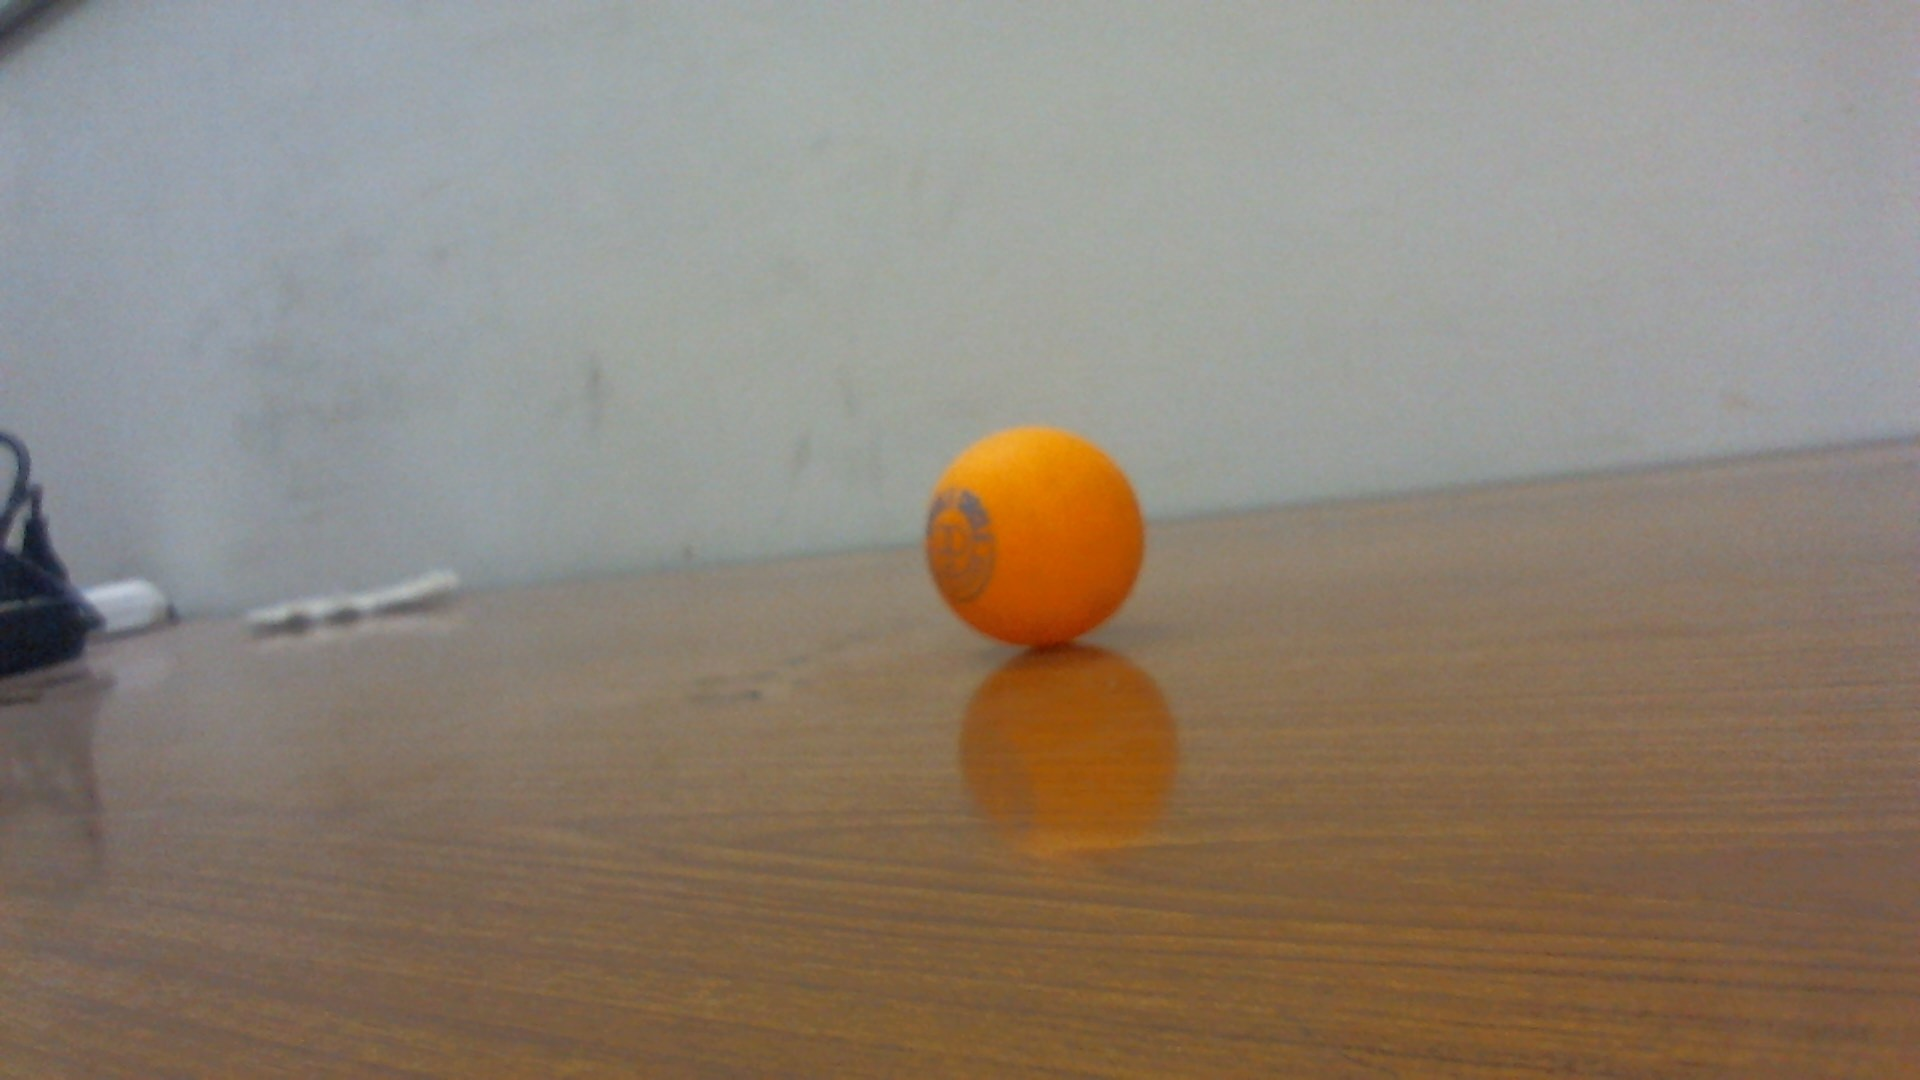ball: (922, 423, 1149, 647)
